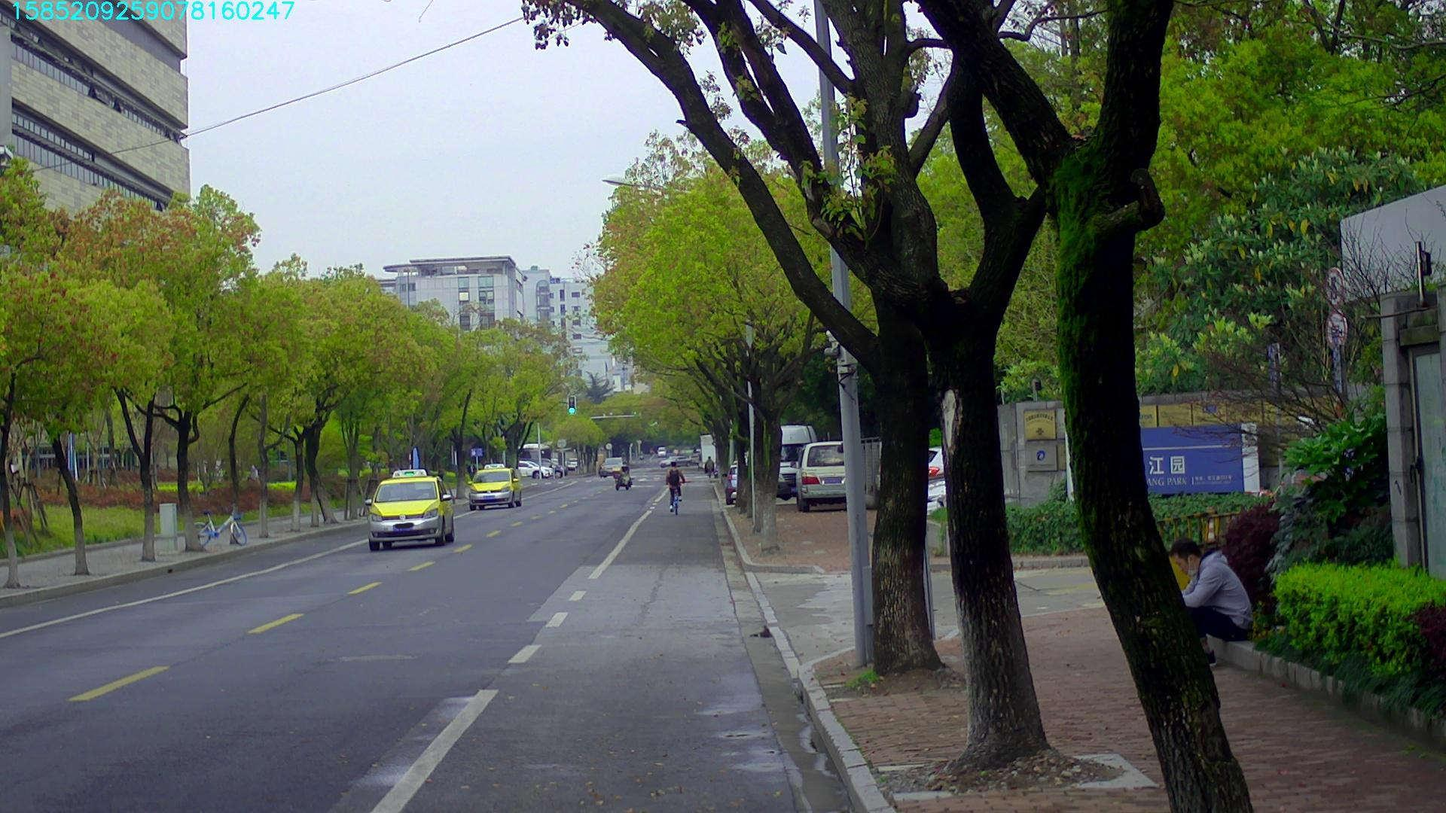green: (567, 395, 575, 414)
